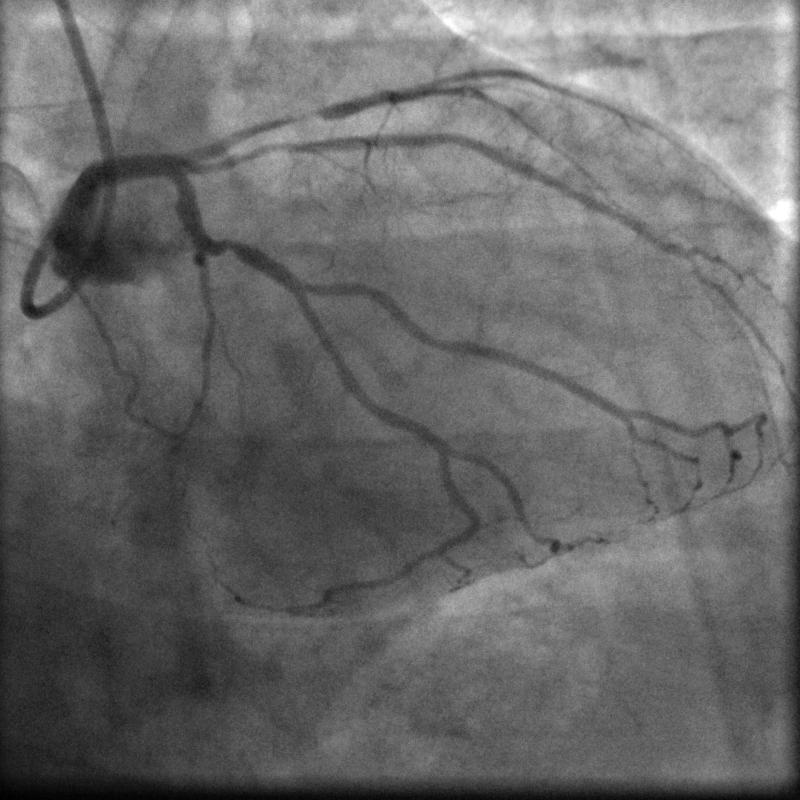Stenosis: (219, 235, 240, 257)
